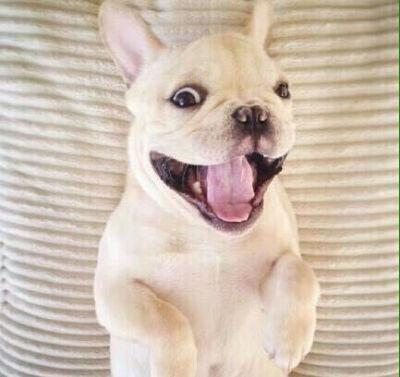dog: (76, 3, 323, 376)
